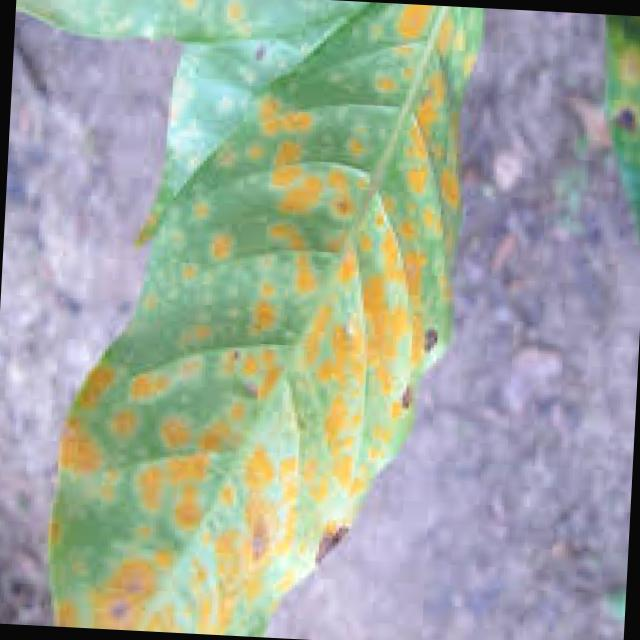leaf_rust: (19, 0, 483, 637)
